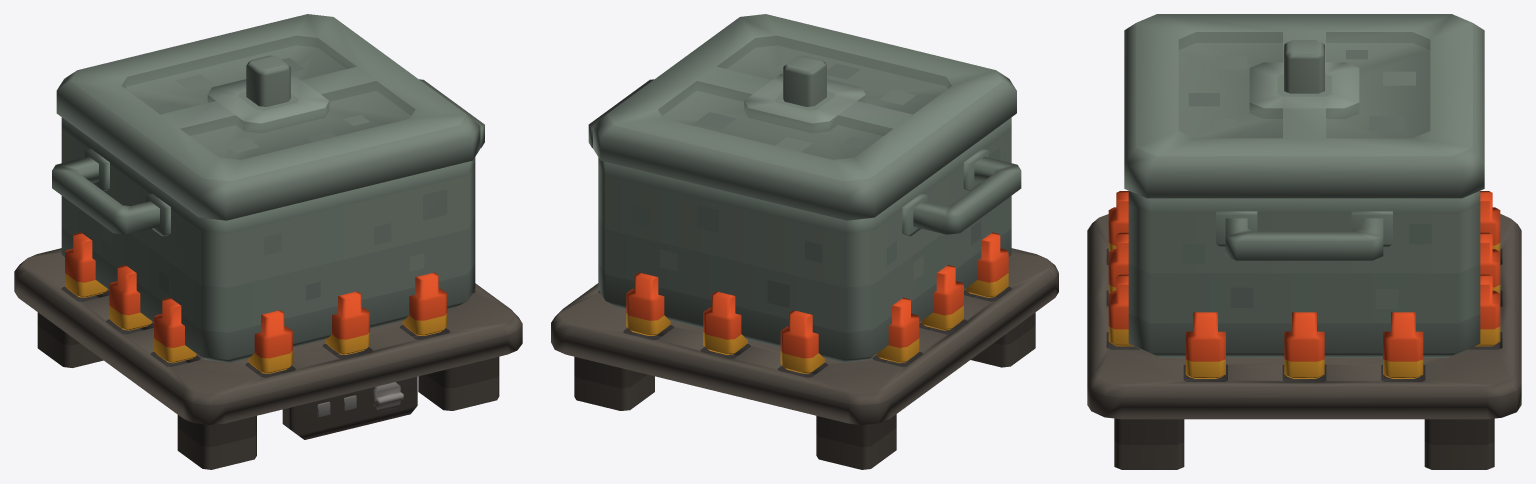
The model's file is cauldron_basic.obj.
The picture shows the model from 3 angles, left to right: view 1: azimuth 30°, elevation 25°; view 2: azimuth 150°, elevation 25°; view 3: azimuth 270°, elevation 25°; orthographic projection. The views are drawn at different scales.
Parts seen in each view (by area): view 1: cauldron_basic_lid, cauldron_basic_pot, cauldron_base, cauldron_flame; view 2: cauldron_basic_lid, cauldron_basic_pot, cauldron_base, cauldron_flame; view 3: cauldron_basic_lid, cauldron_basic_pot, cauldron_base, cauldron_flame.
Part boxes in pixels (bbox=[...]): cauldron_basic_lid: bbox=[56, 14, 480, 220]; cauldron_basic_pot: bbox=[52, 79, 484, 362]; cauldron_base: bbox=[14, 248, 522, 469]; cauldron_flame: bbox=[65, 232, 447, 373]; cauldron_basic_lid: bbox=[593, 14, 1016, 220]; cauldron_basic_pot: bbox=[588, 79, 1021, 362]; cauldron_base: bbox=[551, 248, 1058, 469]; cauldron_flame: bbox=[626, 232, 1008, 373]; cauldron_basic_lid: bbox=[1124, 14, 1484, 198]; cauldron_basic_pot: bbox=[1128, 191, 1480, 357]; cauldron_base: bbox=[1087, 214, 1521, 469]; cauldron_flame: bbox=[1108, 191, 1500, 378].
Size of the model in its own units: 5.41 by 4.3 by 4.94.
